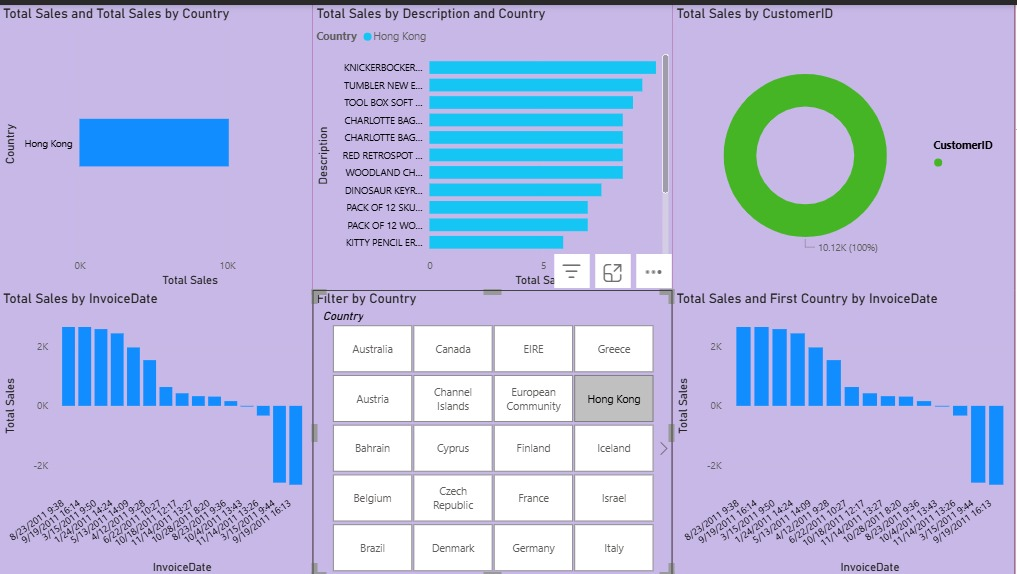

Layout of this report page (visuals, bound fields, positions):
{"tool":"powerbi","page":{"name":"Page 1","canvas":[1280,720],"ordinal":0},"visuals":[{"type":"clusteredBarChart","fields":{"Y":["data (3).Total Sales","data (3).Total Sales"],"Category":["data (3).Country"]},"box":[0,0,395,359.1],"z":0},{"type":"lineClusteredColumnComboChart","fields":{"Category":["data (3).InvoiceDate"],"Y":["data (3).Total Sales"]},"box":[0,359.1,395,360.9],"z":1000},{"type":"clusteredBarChart","fields":{"Category":["data (3).Description"],"Y":["data (3).Total Sales"],"Series":["data (3).Country"]},"box":[395,0,453.5,359.1],"z":2000},{"type":"slicer","title":"Filter by Country","fields":{"Values":["data (3).Country"]},"box":[395,359.1,453.5,360.9],"z":3000},{"type":"donutChart","fields":{"Y":["data (3).Total Sales"],"Category":["data (3).CustomerID"]},"box":[848.5,0,430.9,359.1],"z":4000},{"type":"pieChart","fields":{"Category":["data (3).Quantity"],"Y":["data (3).Total Sales"]},"box":[849,359,431,361],"z":5000}]}

Visuals, with their boxes in screenshot pixels (x1, y1, x2, y2), scaled from the page's 1280x720 canvas onto the 1017x574 screenshot:
clusteredBarChart - data (3).Total Sales x data (3).Total Sales: bbox=(0, 0, 314, 286)
lineClusteredColumnComboChart - data (3).InvoiceDate x data (3).Total Sales: bbox=(0, 286, 314, 573)
clusteredBarChart - data (3).Description x data (3).Total Sales: bbox=(314, 0, 674, 286)
"Filter by Country" slicer: bbox=(314, 286, 674, 573)
donutChart - data (3).Total Sales x data (3).CustomerID: bbox=(674, 0, 1016, 286)
pieChart - data (3).Quantity x data (3).Total Sales: bbox=(675, 286, 1016, 573)
